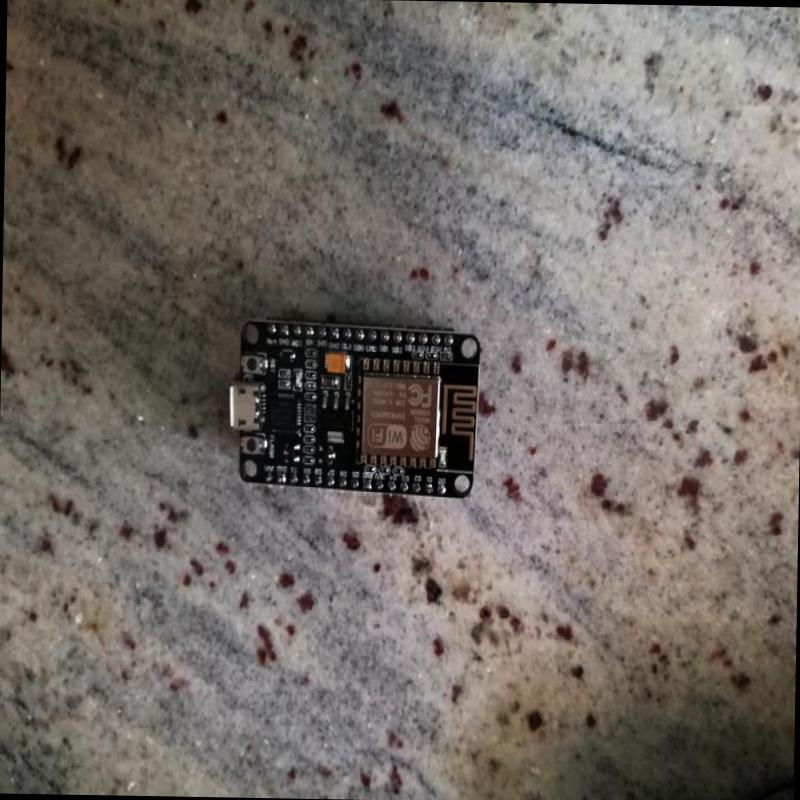ESP8266: (225, 309, 488, 508)
